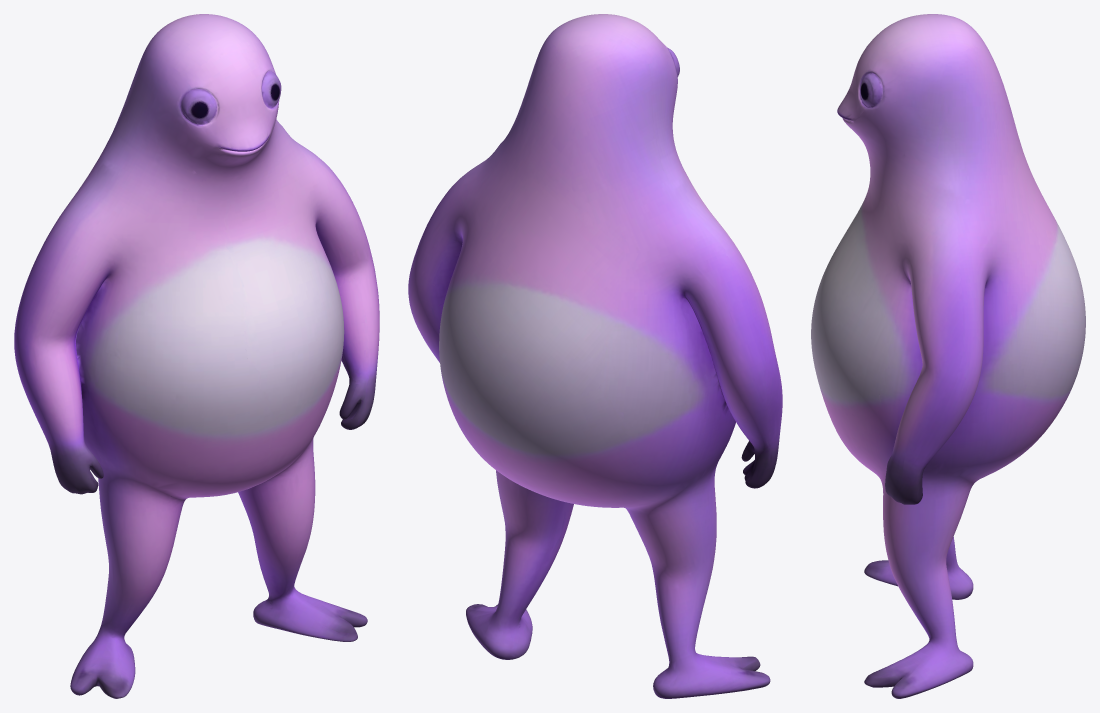
The model's file is mirror-frog.glb.
3 views of the same model, side by side, from view 1: azimuth 30°, elevation 25°; view 2: azimuth 150°, elevation 25°; view 3: azimuth 270°, elevation 25° (orthographic). The views are drawn at different scales.
Parts seen in each view (by area): view 1: node_0; view 2: node_0; view 3: node_0.
Boxes of the visible parts, x1=… form: node_0: x1=14, y1=14, x2=379, y2=698; node_0: x1=408, y1=14, x2=782, y2=698; node_0: x1=811, y1=14, x2=1085, y2=698.
Bounding box in the file's own units: 0.6344 × 1.08 × 0.439.
1 material, 1 textured.
